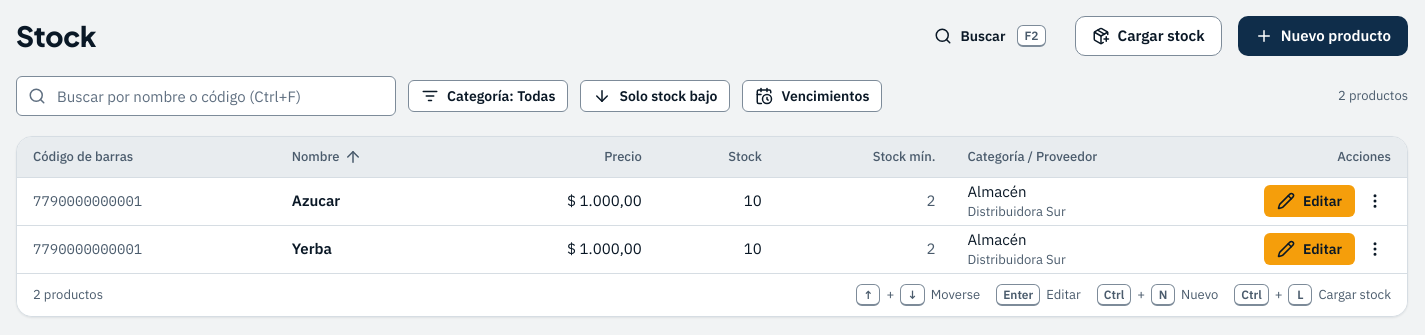
Scenario: Stock › columna Vencimientos › renderiza los lotes ordenados: con fecha primero y sin vencimiento al final
Check: the text "Yerba" is shown, box x1=276 y1=225 x2=462 y2=273
Click the button "Vencimientos": [812, 96] box x1=742 y1=80 x2=882 y2=112
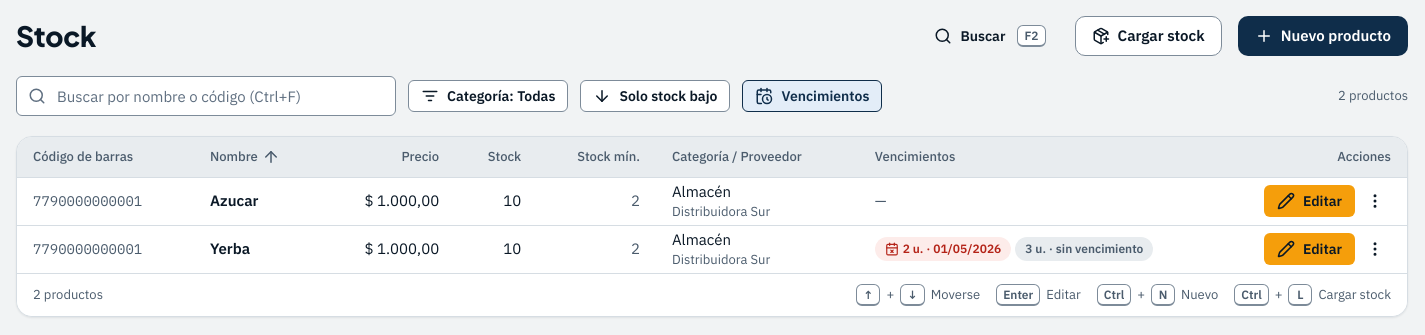
Check: the element with class "ig-badge" shows "2 u.", box x1=875 y1=237 x2=1011 y2=261
Check: the element with class "ig-badge" shows "01/05/2026", box x1=933 y1=241 x2=1001 y2=256
Check: the text with class "ig-badge" shows "3 u.", box x1=1015 y1=237 x2=1153 y2=261
